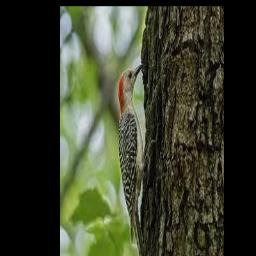Woodpecker: (118, 63, 157, 256)
